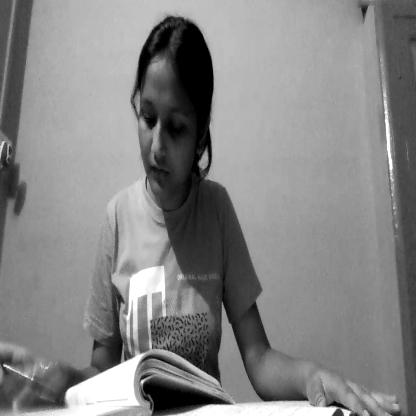Normal: (128, 22, 216, 220)
